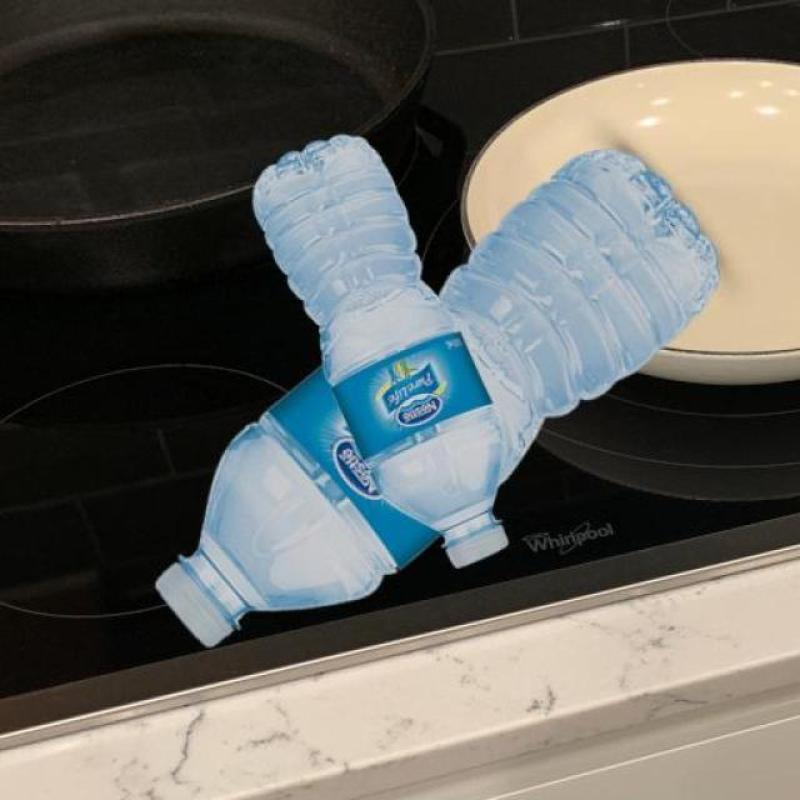botella: (154, 150, 724, 650), (252, 133, 509, 572)
